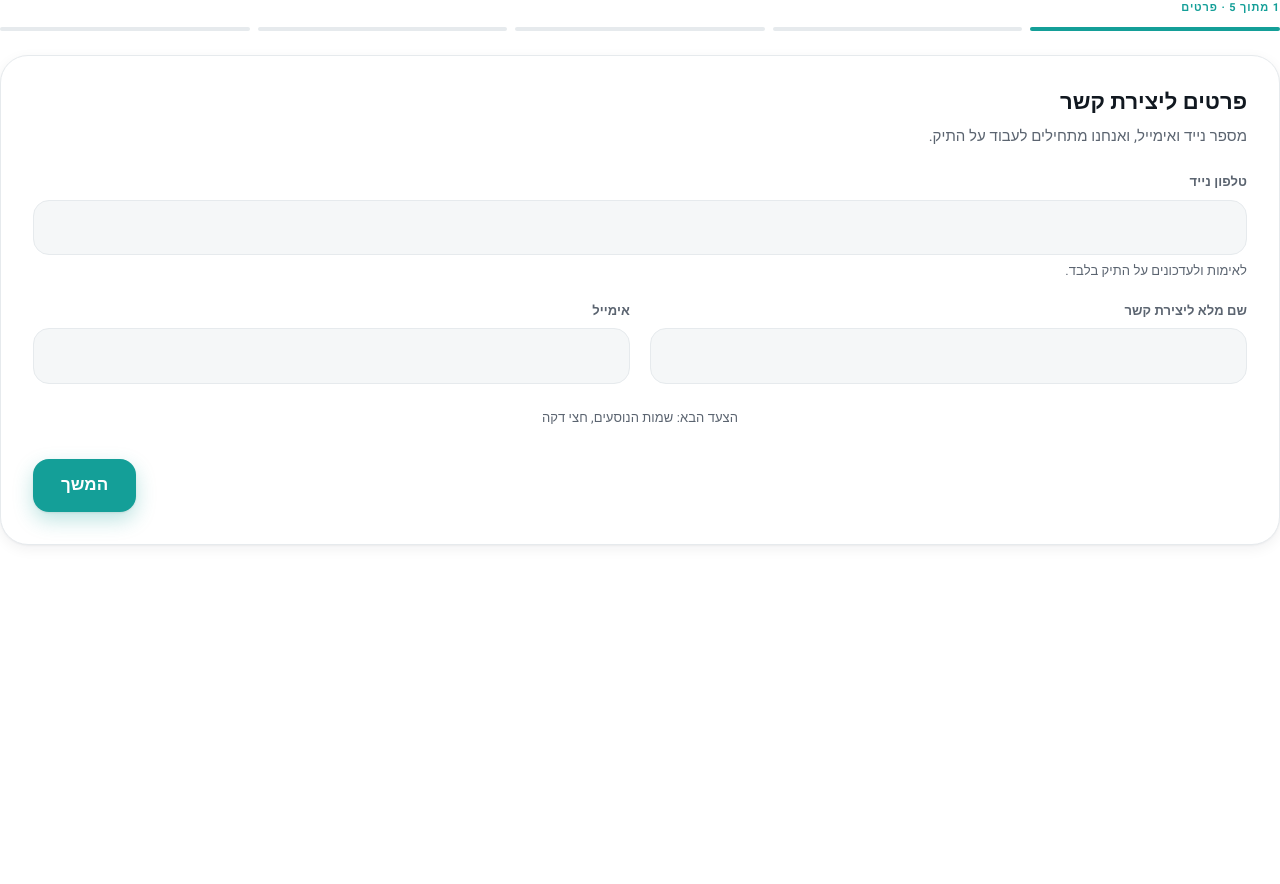
it: the passenger count from the result screen › refuses a count from the URL that is not a count
Type "Noam Hasson" into the field labelled "שם מלא ליצירת קשר" at (948, 356), box top-left (650, 328), bottom-right (1247, 384)
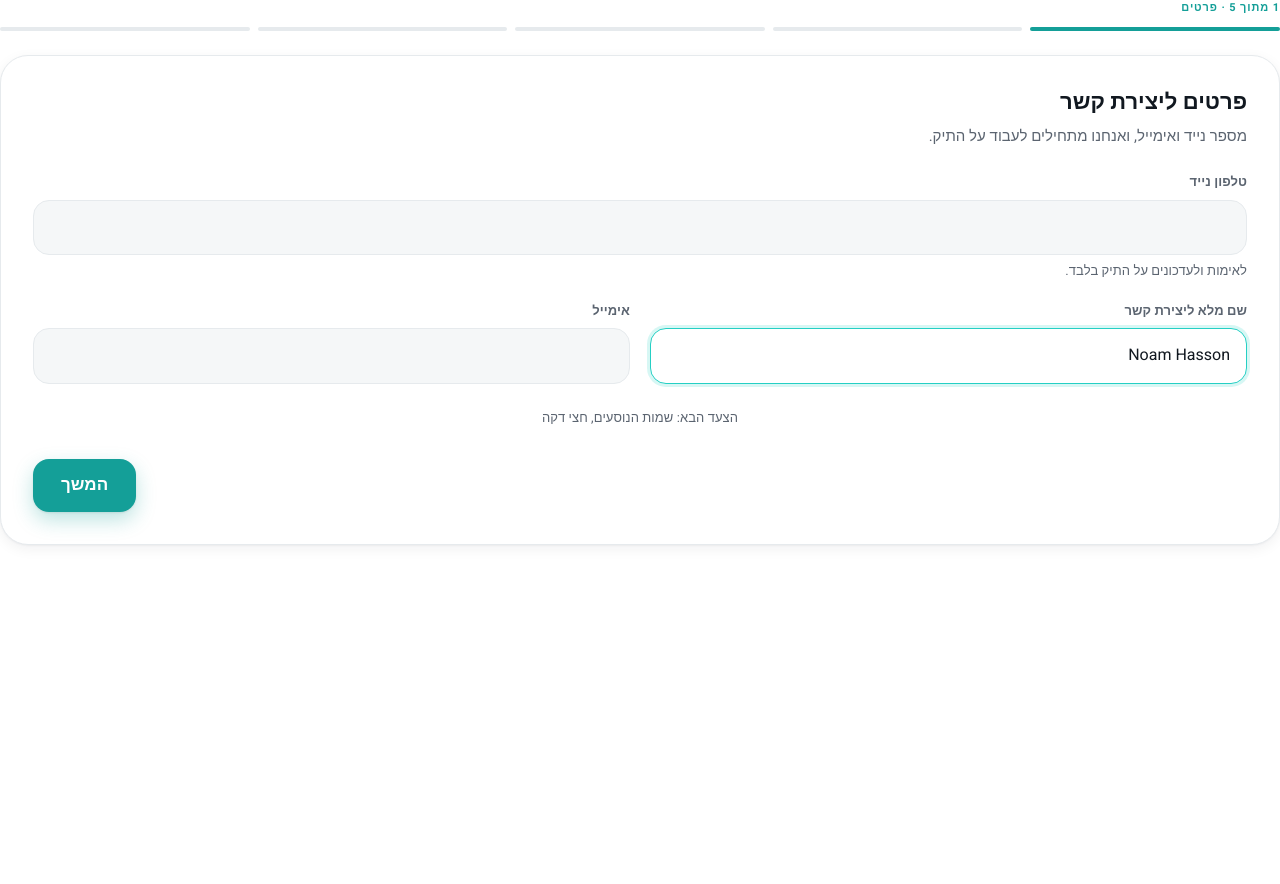
Type "noam@example.com" into the field labelled "אימייל" at (332, 356), box top-left (33, 328), bottom-right (630, 384)
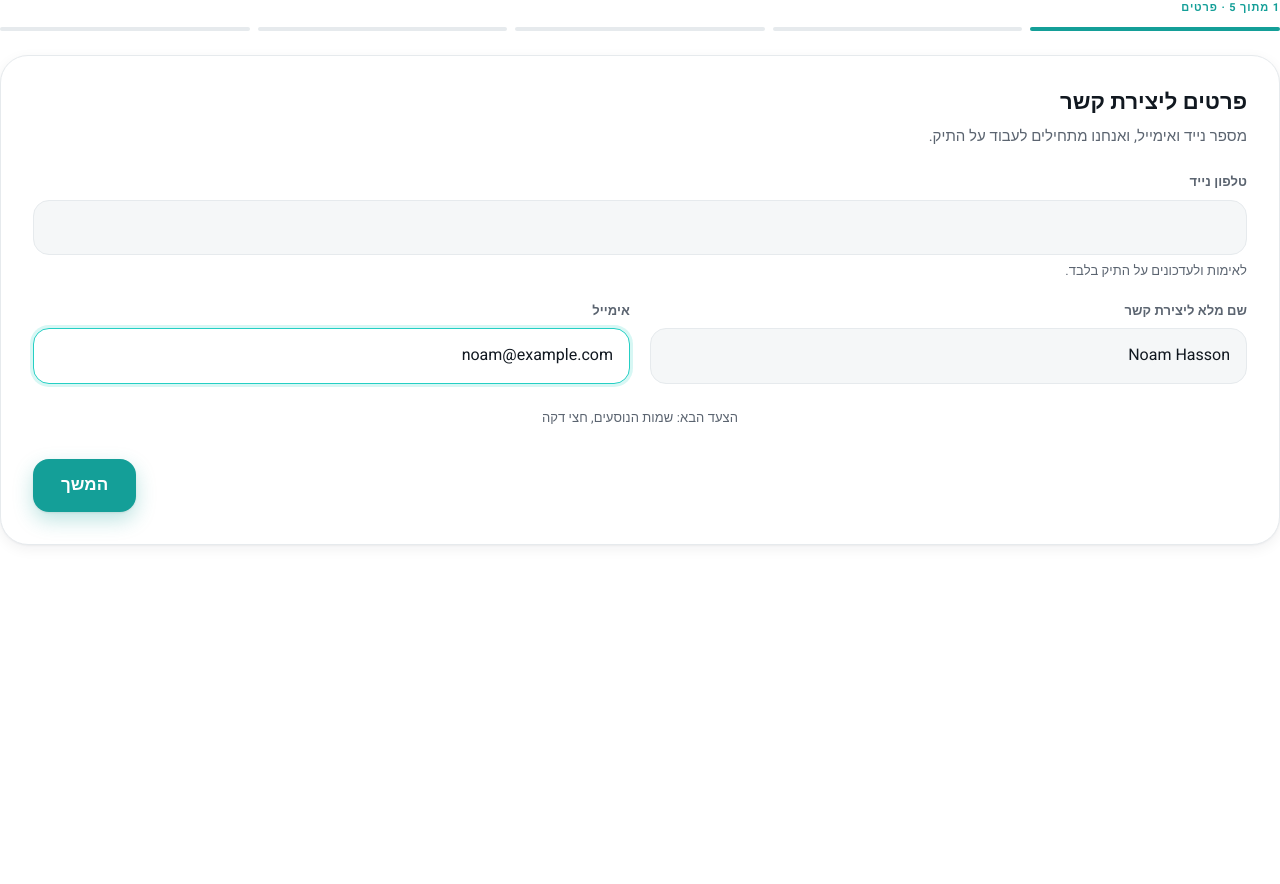
Click the button "המשך" at (85, 486), box top-left (33, 459), bottom-right (136, 512)
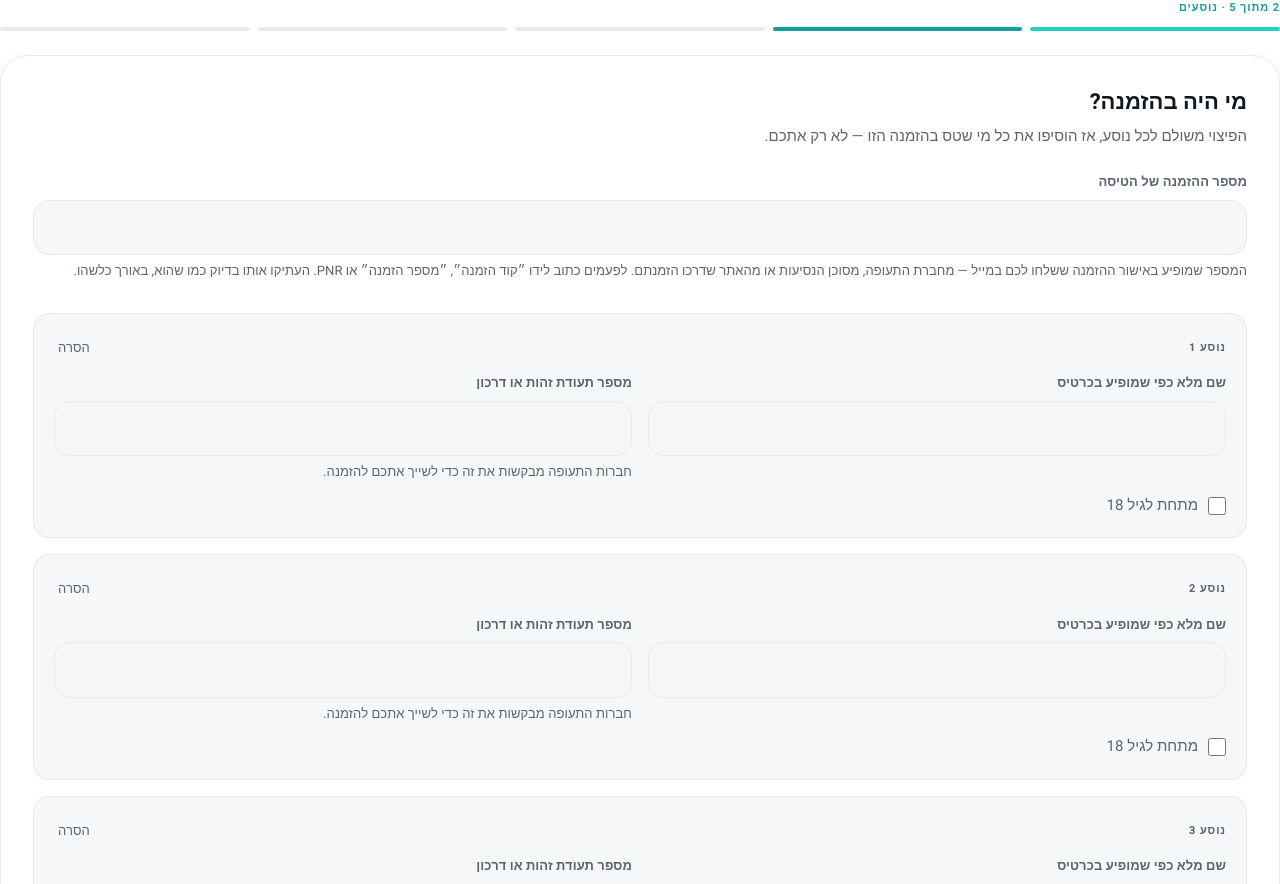
Result: the number of fields labelled "שם מלא כפי שמופיע בכרטיס" is 9
